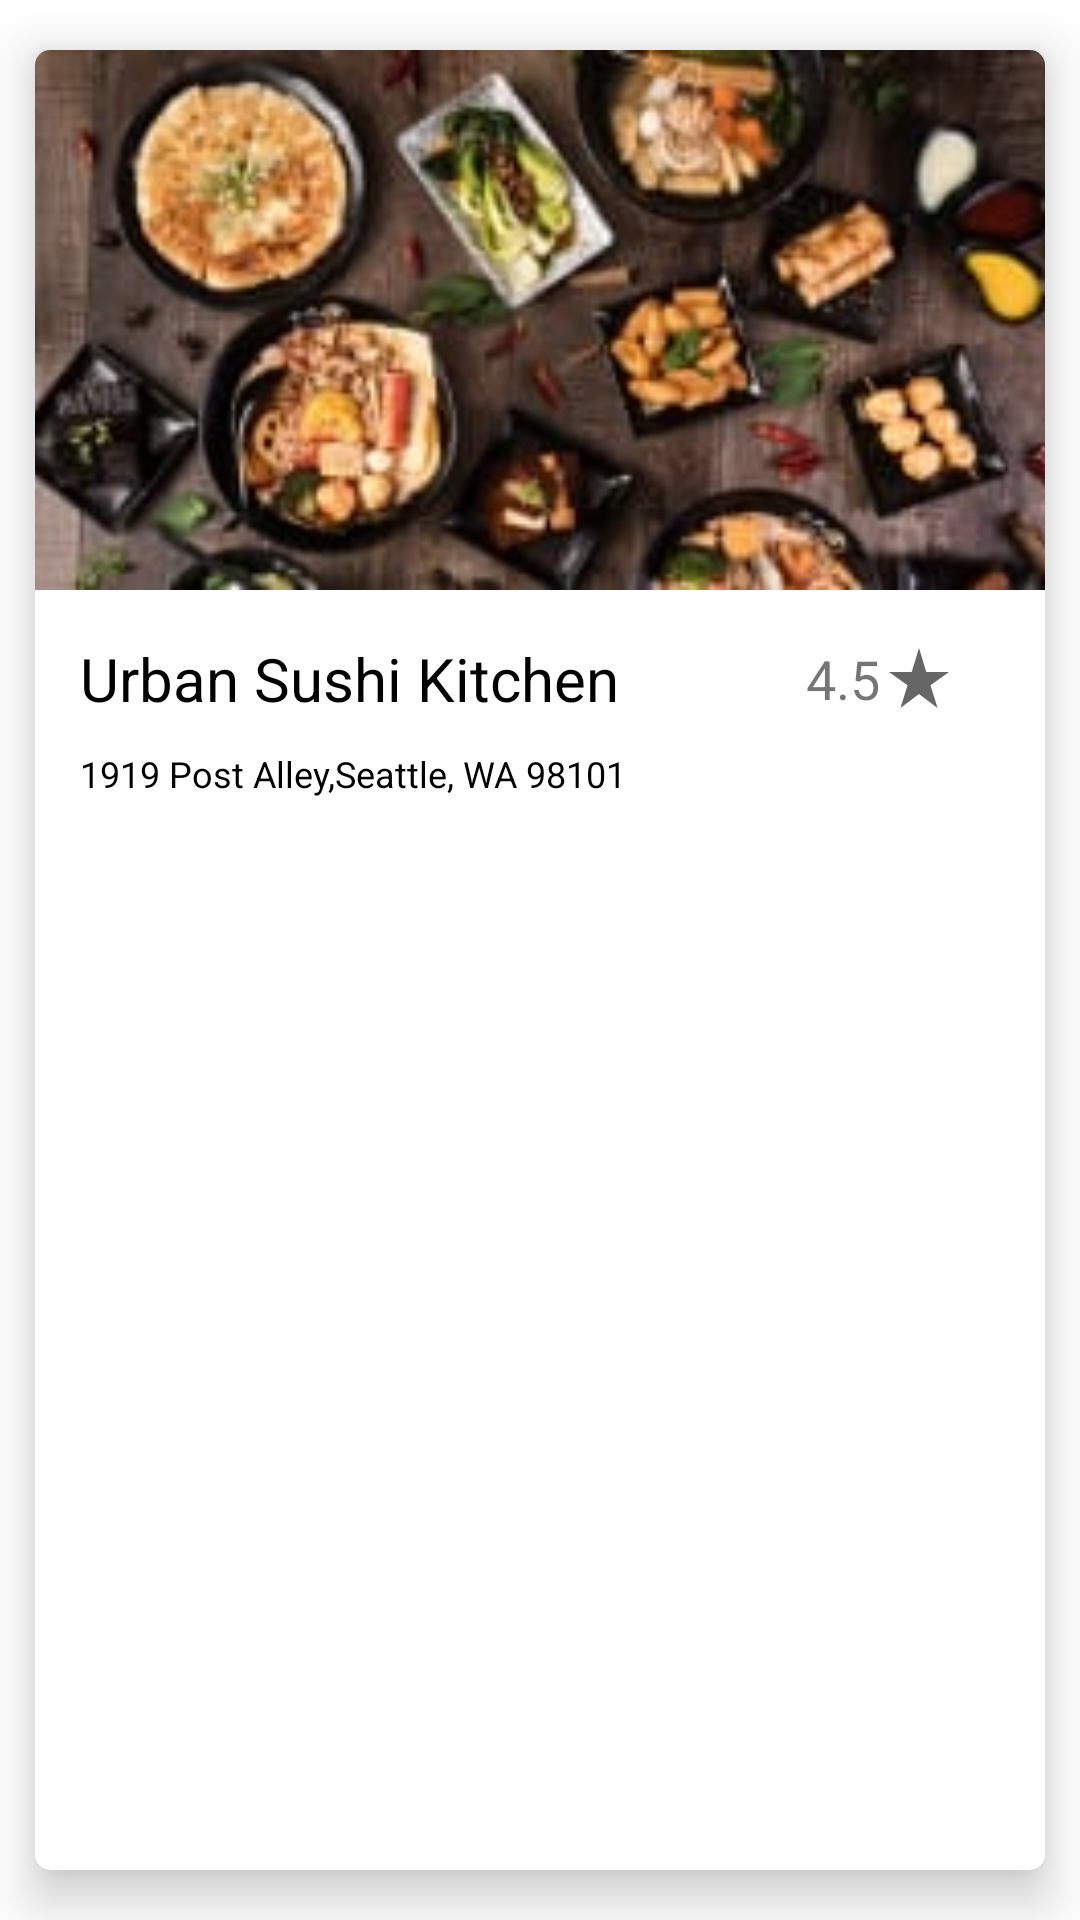

Where icons sit on this 1080 x 1920 app screen, as [x1,y1,x2,y2]:
star rate: [889,649,949,708]
